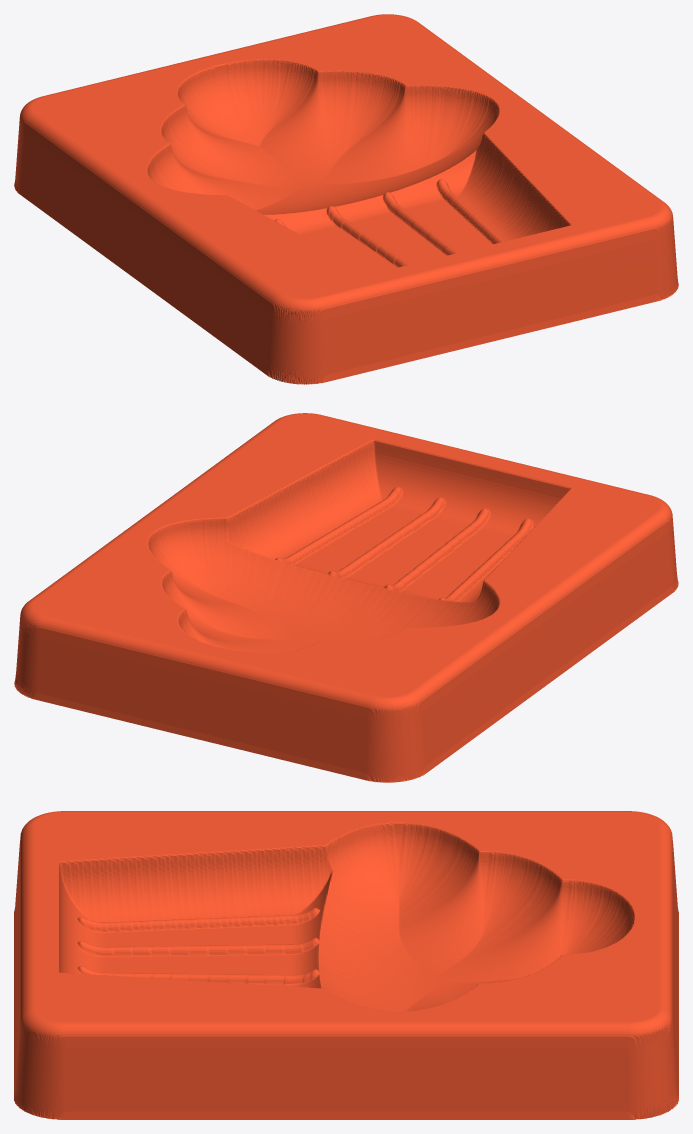
The model's file is mold.glb.
The picture shows the model from 3 angles, top to bottom: view 1: azimuth 30°, elevation 25°; view 2: azimuth 150°, elevation 25°; view 3: azimuth 270°, elevation 25°; orthographic projection. The views are drawn at different scales.
Visible parts, largest first — view 1: geometry_0; view 2: geometry_0; view 3: geometry_0.
Boxes of the visible parts, x1,y1,x2,y2 form: geometry_0: [14, 14, 678, 384]; geometry_0: [14, 413, 678, 782]; geometry_0: [14, 811, 678, 1119].
Size of the model in its own units: 0.095 by 0.0175 by 0.1178.
